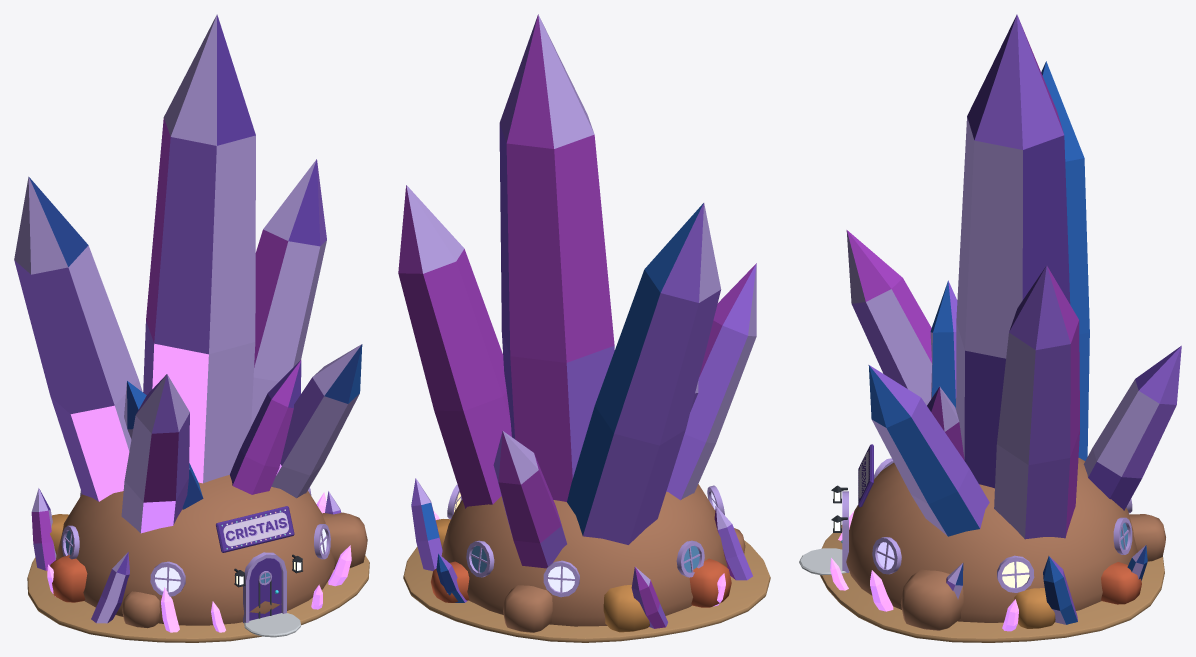
Rendered from cristais_roxos.glb.
The picture shows the model from 3 angles, left to right: view 1: azimuth 30°, elevation 25°; view 2: azimuth 150°, elevation 25°; view 3: azimuth 270°, elevation 25°; orthographic projection. The views are drawn at different scales.
Visible parts, largest first — view 1: cristais_roxos; view 2: cristais_roxos; view 3: cristais_roxos.
Boxes of the visible parts, x1,y1,x2,y2 form: cristais_roxos: (14,14,369,642); cristais_roxos: (398,14,770,642); cristais_roxos: (799,14,1181,642).
Size of the model in its own units: 12.38 by 20.67 by 12.55.
Materials: 7 (2 with a texture image).
